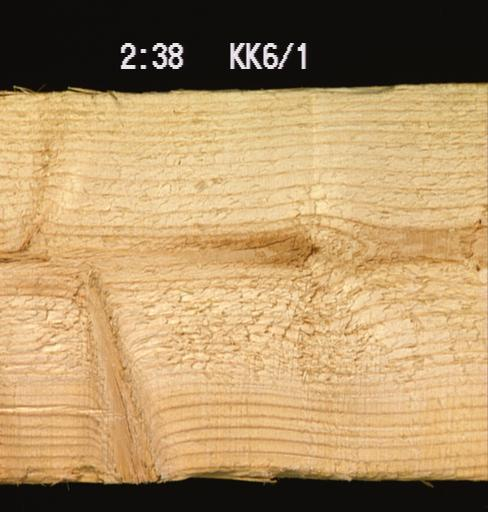wave: (0, 448, 374, 486)
